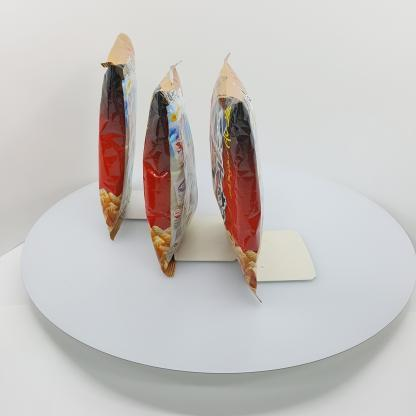Plastic Packaging: (210, 58, 272, 292), (143, 62, 200, 270), (92, 23, 136, 238)
